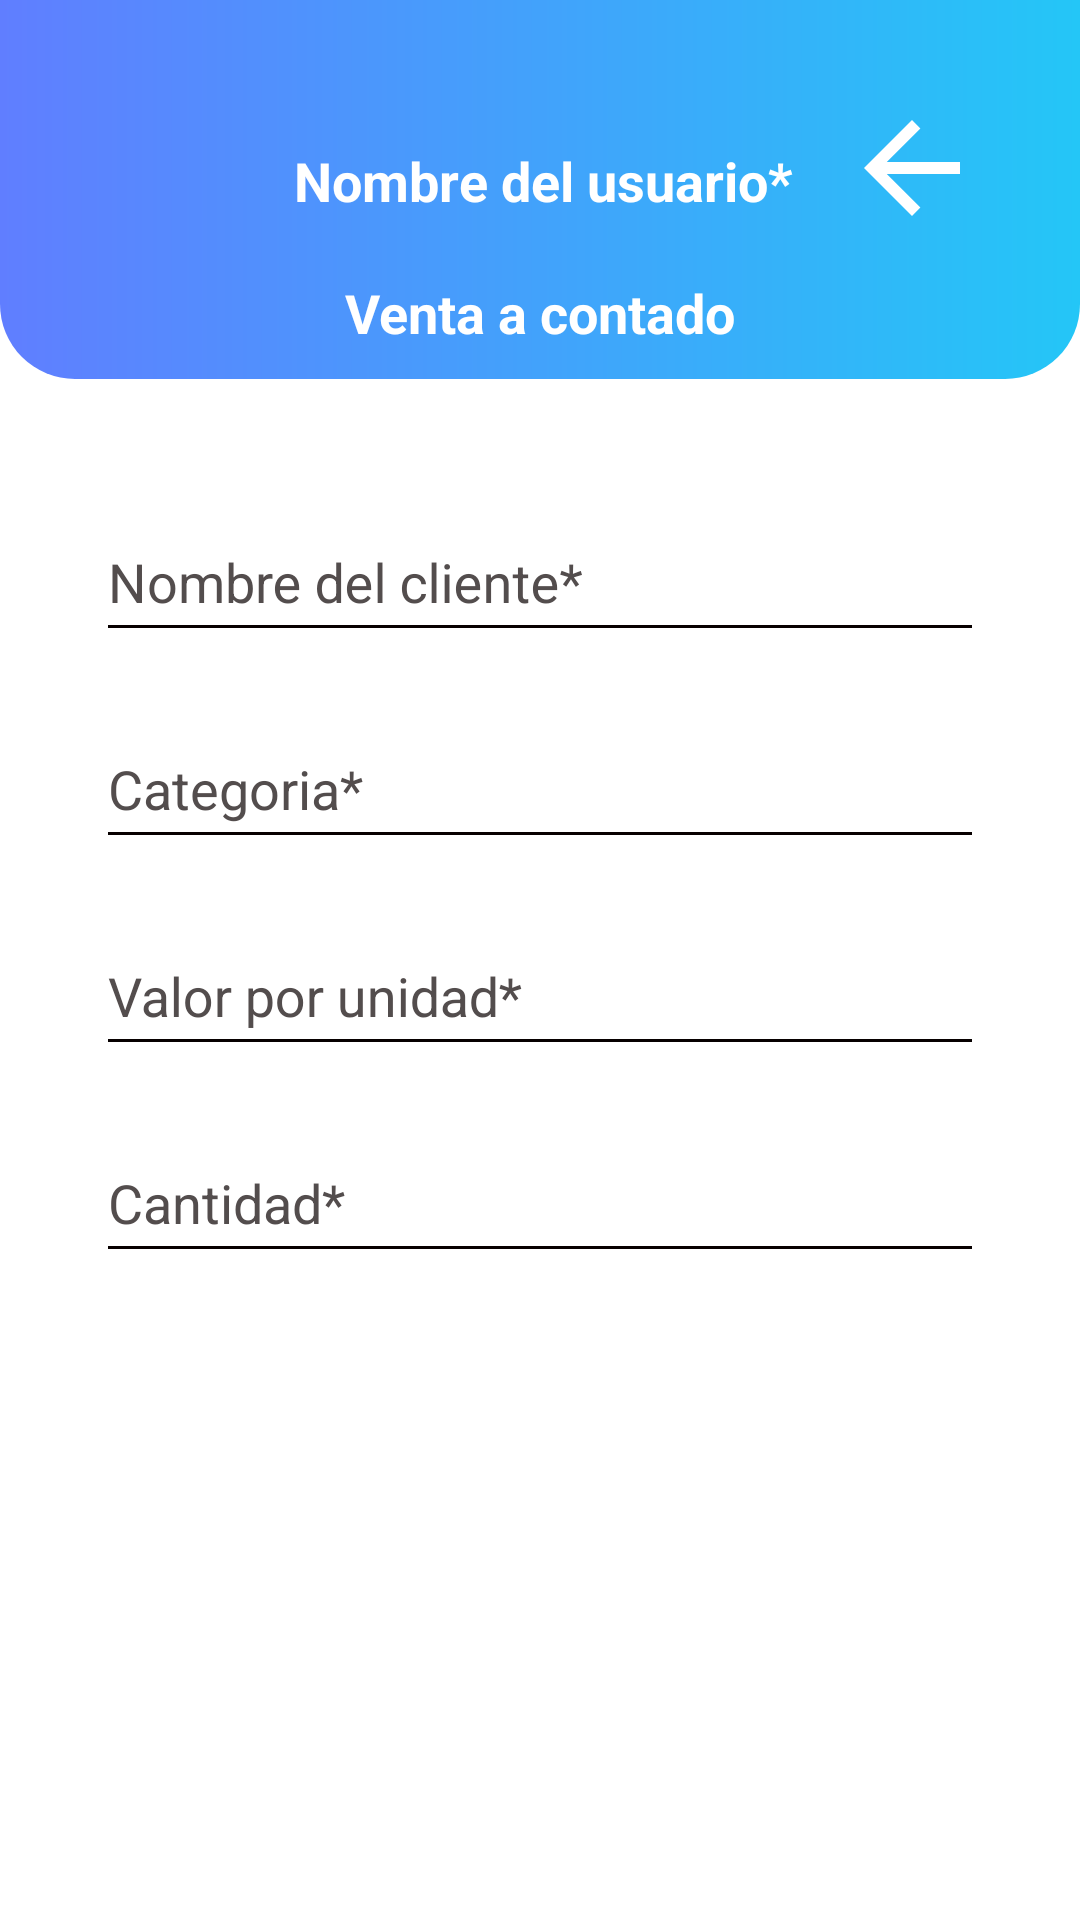

Named icons in this screenshot (1080px x 1920px) and their centers, point (x, y):
Boton que al presionar cuelve a la pantalla anterior: point (912, 168)
